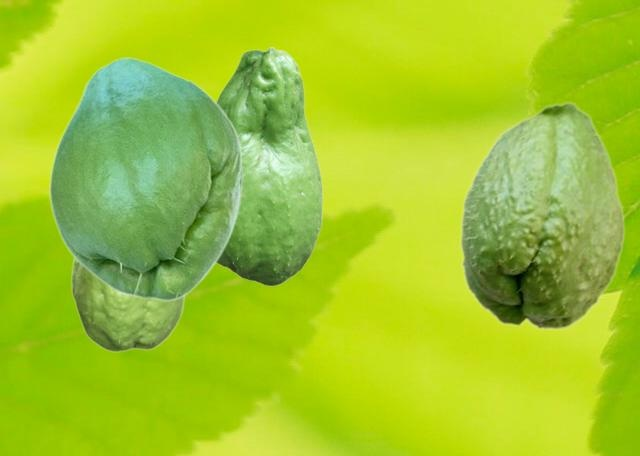sayote: (48, 57, 242, 301), (459, 100, 625, 330), (216, 46, 322, 285), (70, 258, 185, 352)
